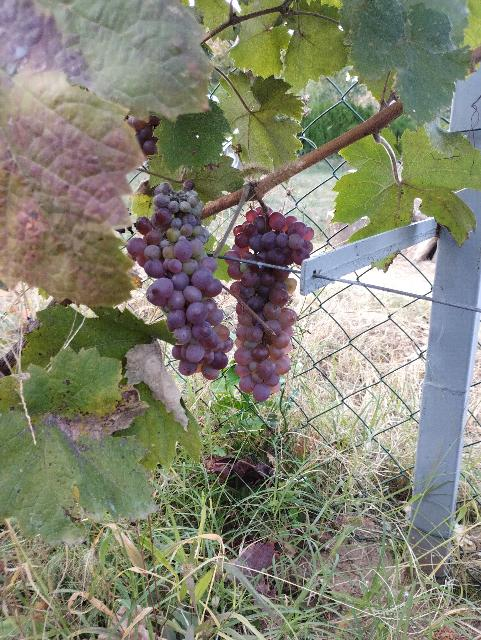grapes: (126, 180, 234, 380), (225, 204, 315, 402)
